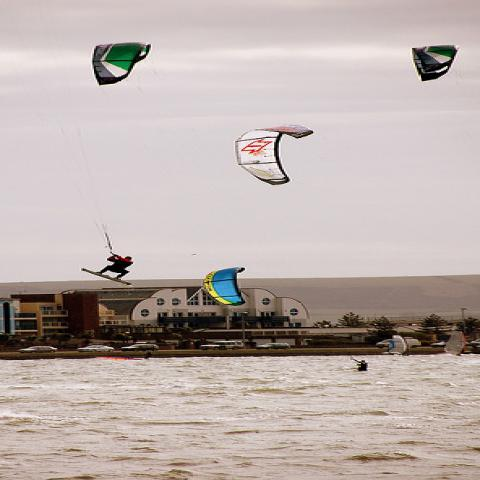car: (199, 341, 245, 351), (375, 339, 421, 349), (16, 346, 57, 354), (120, 344, 160, 352), (255, 343, 291, 350), (77, 346, 115, 352), (428, 342, 448, 348)
